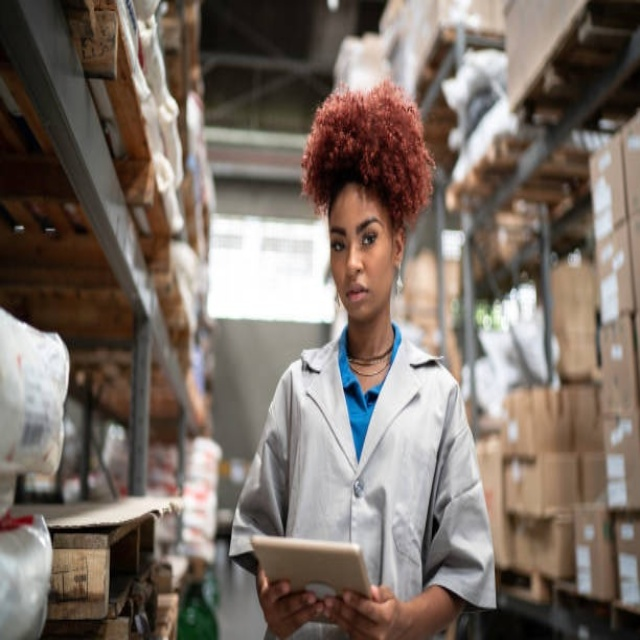Sin_gafas: (330, 209, 386, 251)
Sin_guantes: (255, 564, 329, 640), (323, 581, 402, 640)
Sin_mascara: (341, 273, 373, 314)
